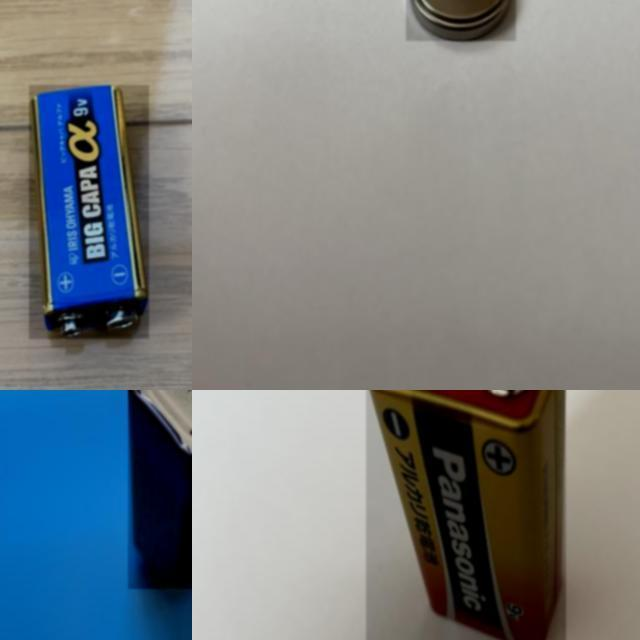9V: (366, 390, 566, 640), (30, 85, 150, 339), (128, 390, 192, 589)
